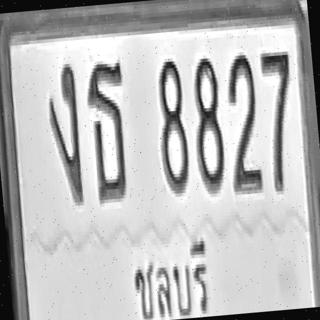A07: (44, 60, 84, 204)
A24: (83, 56, 132, 200)
N02: (222, 49, 263, 190)
N07: (259, 46, 300, 190)
N08: (188, 52, 227, 193), (154, 56, 191, 192)
P13: (127, 228, 216, 320)
